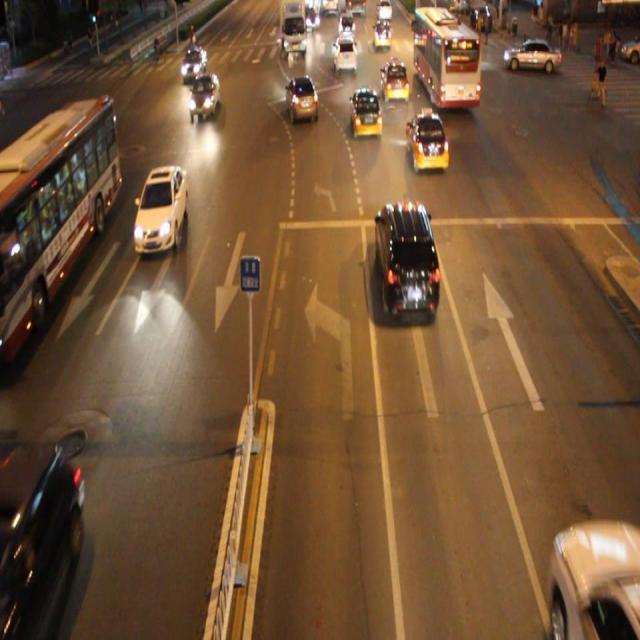BigCar: (0, 87, 123, 379), (412, 5, 484, 114), (269, 0, 318, 58)
car: (354, 188, 454, 334), (127, 165, 196, 258), (400, 113, 455, 181), (507, 28, 561, 82), (342, 85, 381, 153), (283, 58, 319, 126), (184, 71, 222, 125), (325, 36, 366, 84), (379, 58, 412, 109), (367, 15, 396, 60), (183, 42, 205, 85)
